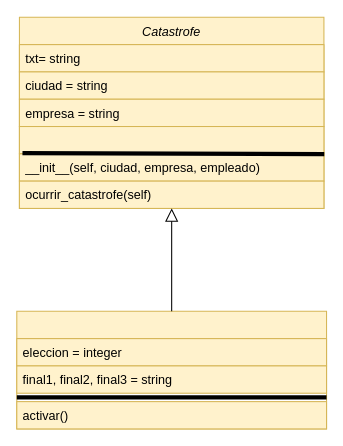
Image size: 343x446. Some labels were removed from this diagram. The box of each missing label's shape, as (x1, y1, x2, y2) in pixels:
Dia_siguiente: (16, 310, 327, 429)
empleado = string: (18, 125, 324, 154)
